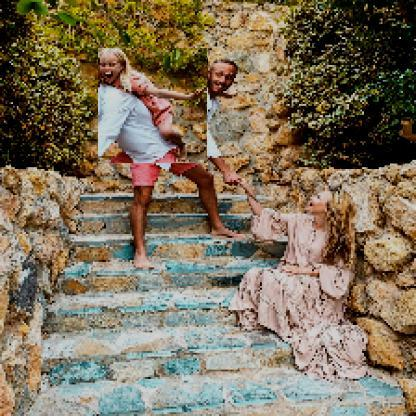child: (99, 49, 209, 165)
